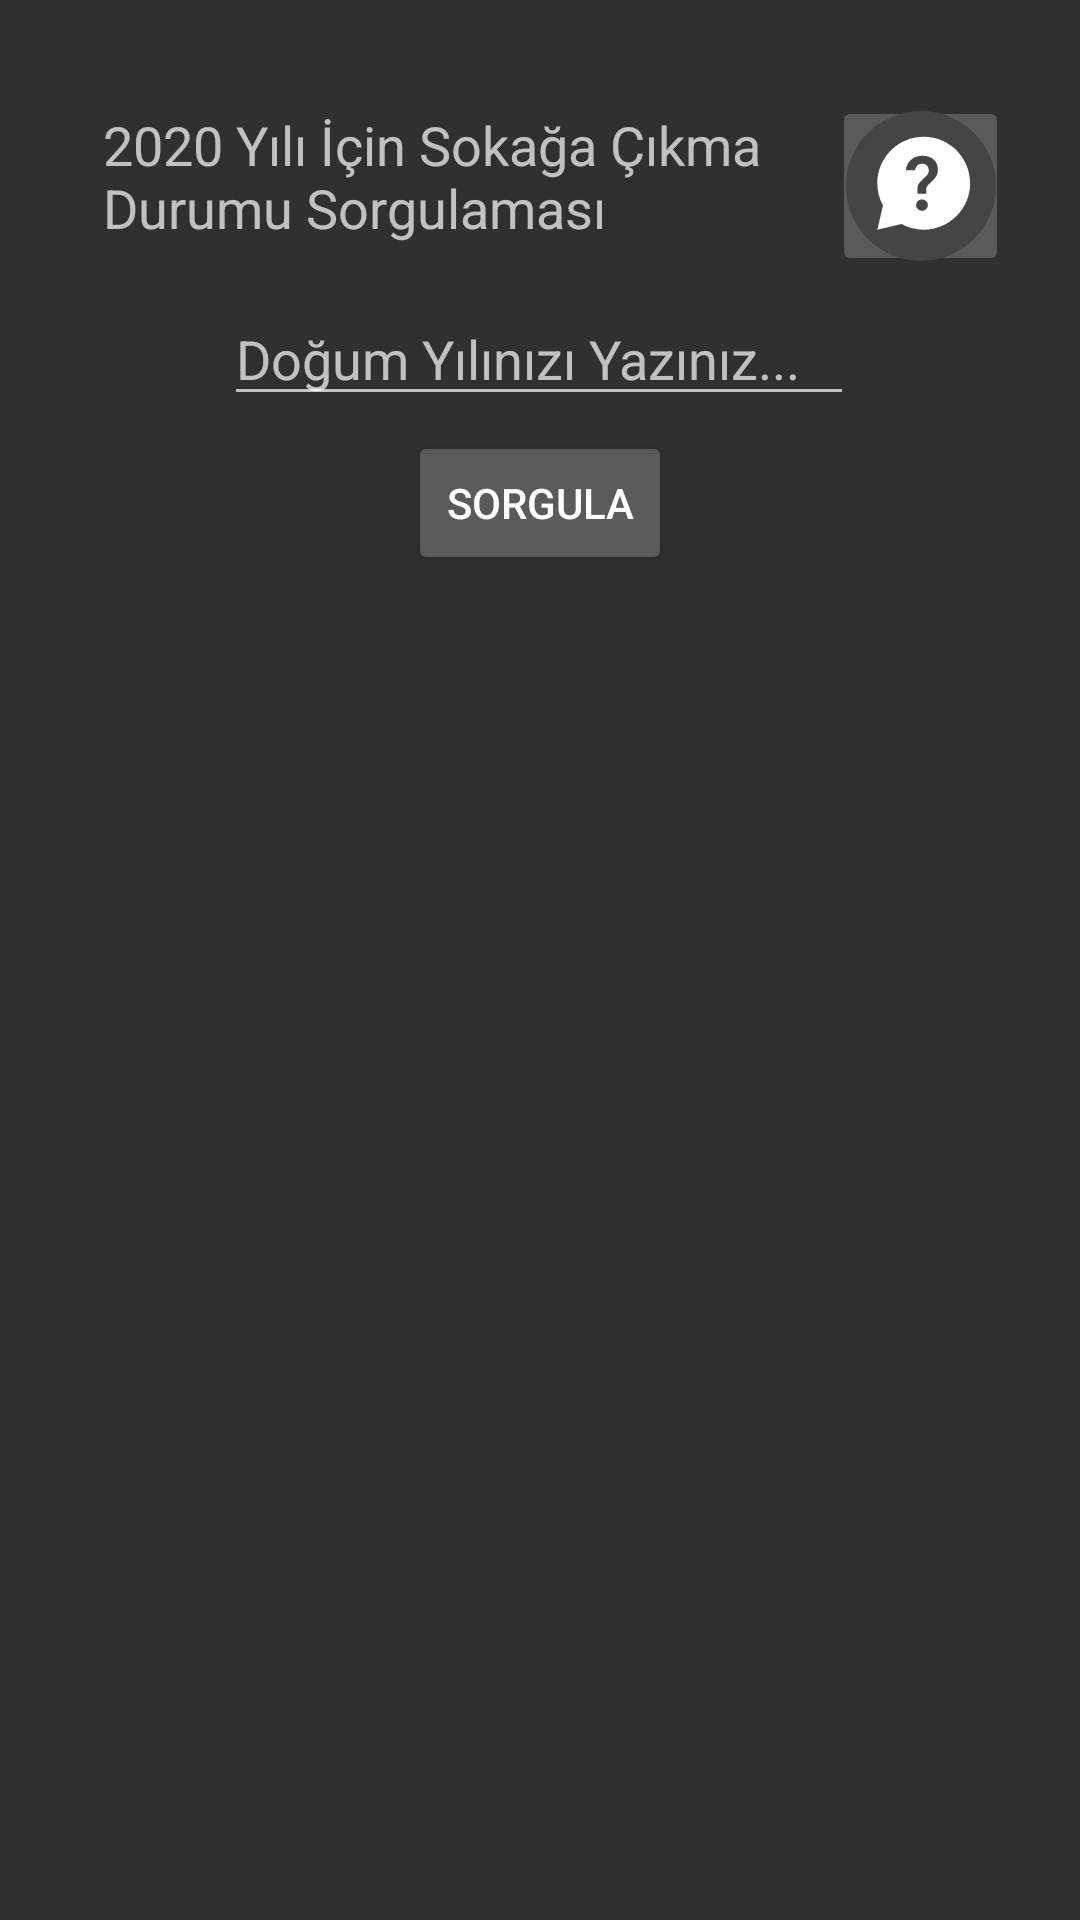

Screen size 1080x1920. Icon name, then its center in pixels as [x,y]:
hakkinda: [920,186]
